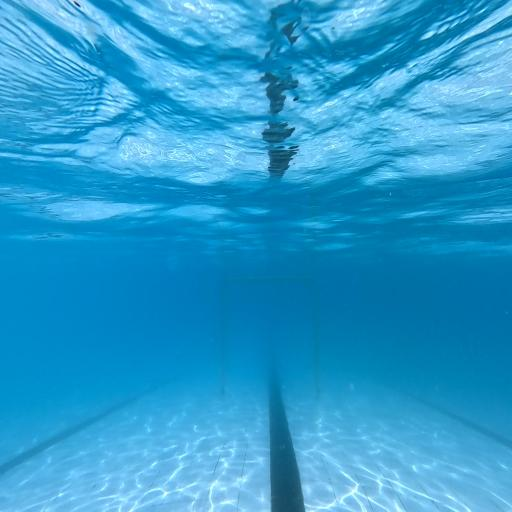gate: (221, 276, 322, 397)
